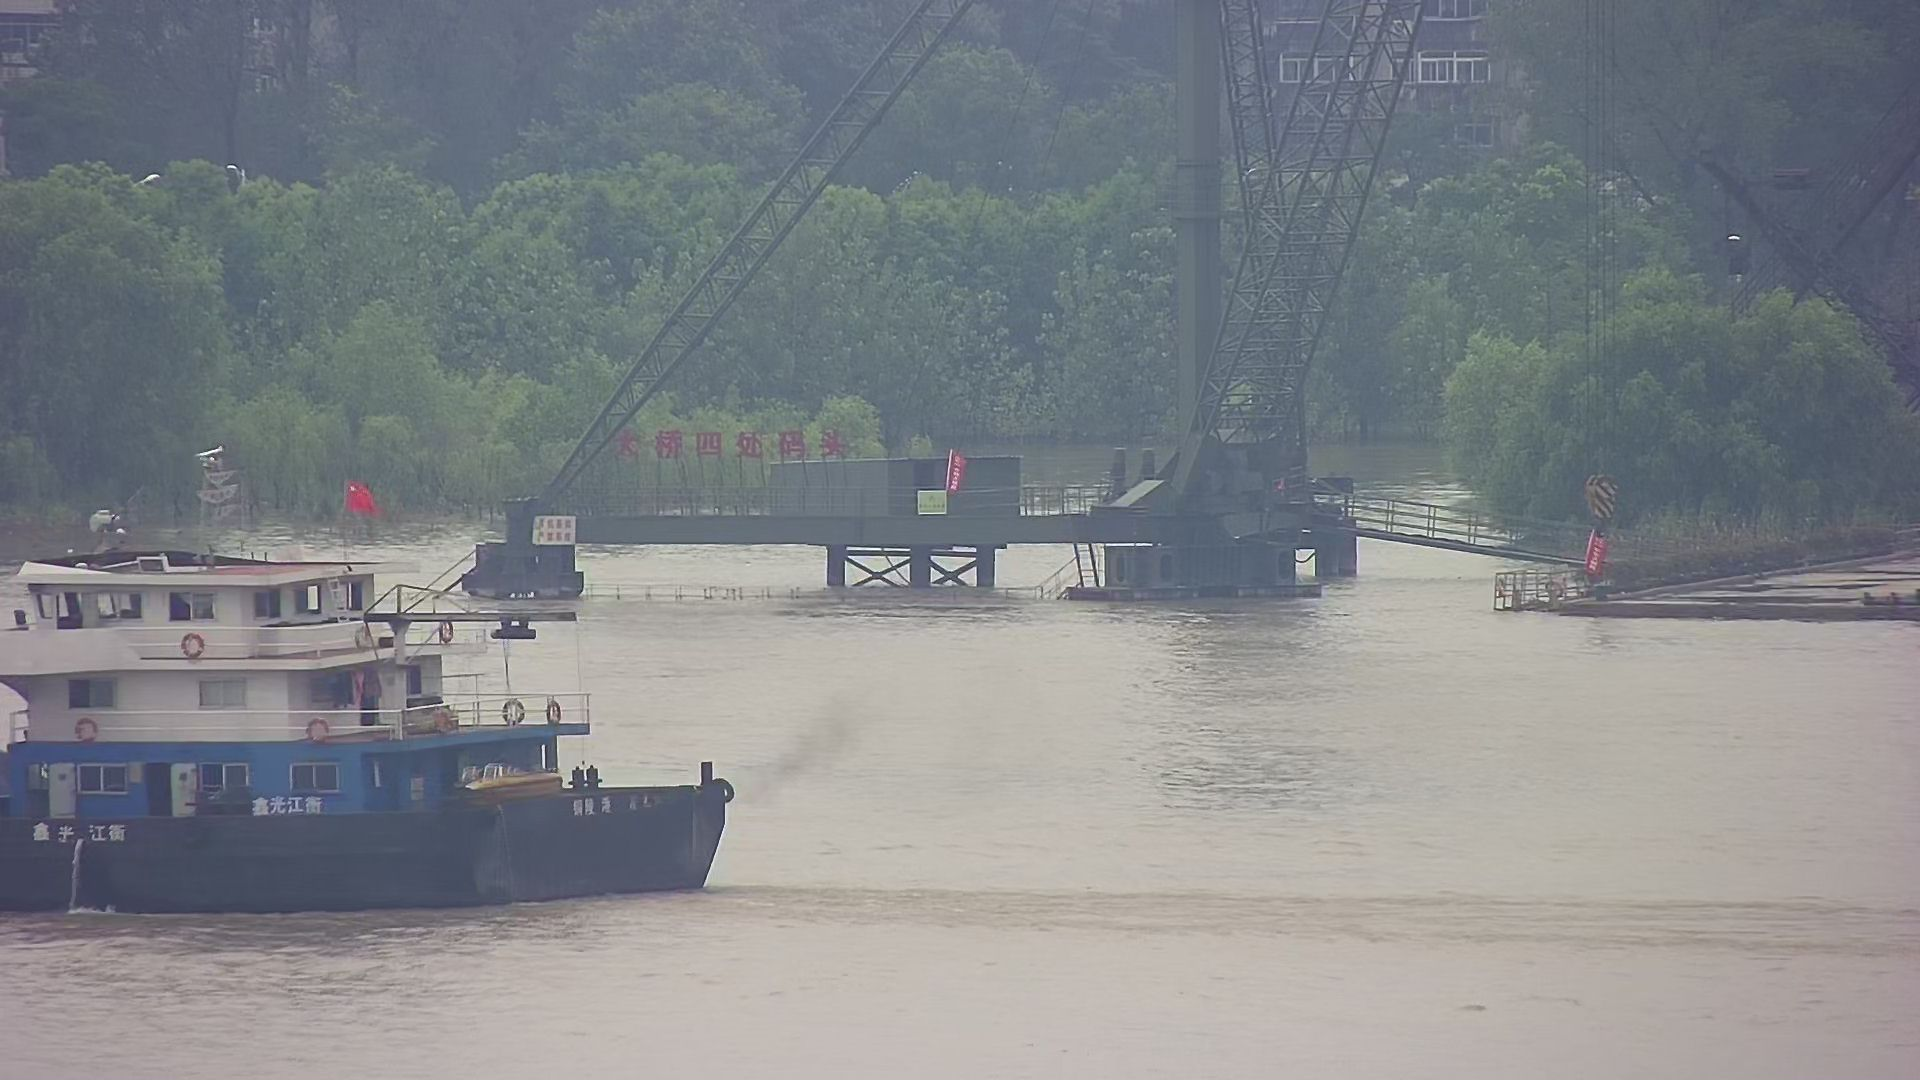platform: (402, 1, 1425, 615)
ship: (1, 434, 744, 920)
